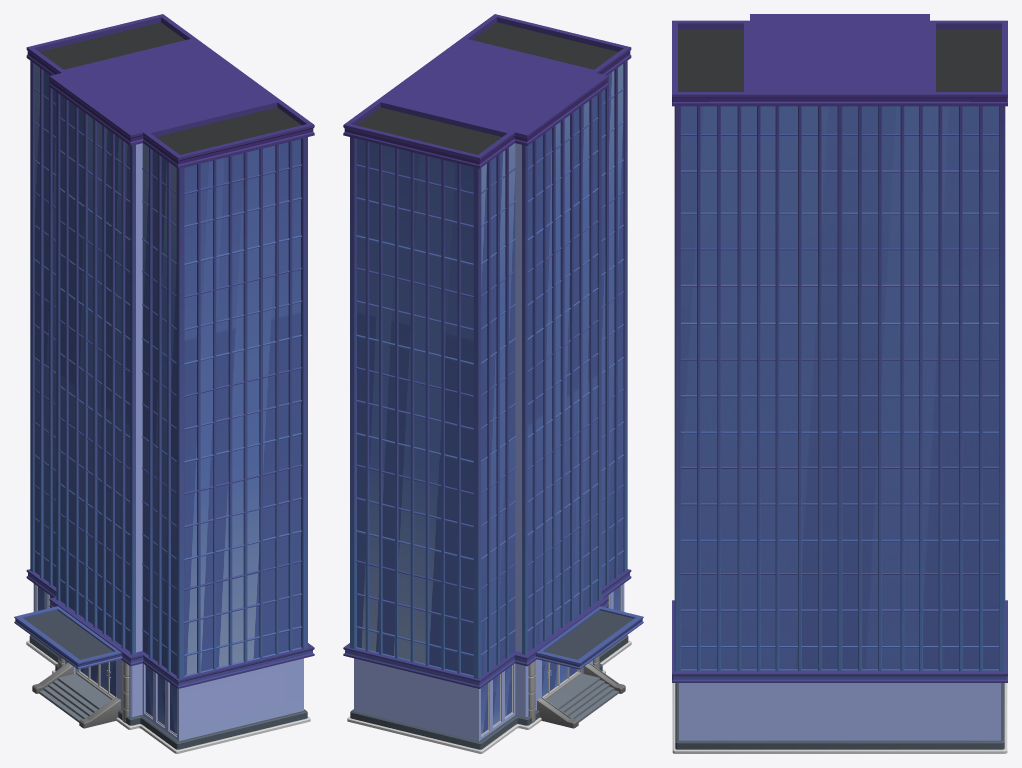
Rendered from Building_17_3_C.fbx.
The picture shows the model from 3 angles, left to right: view 1: azimuth 30°, elevation 25°; view 2: azimuth 150°, elevation 25°; view 3: azimuth 270°, elevation 25°; orthographic projection. The views are drawn at different scales.
Parts seen in each view (by area): view 1: Building_17_3_C; view 2: Building_17_3_C; view 3: Building_17_3_C.
Part boxes in pixels (x1,y1,x2,y2): Building_17_3_C: (14, 14, 314, 753); Building_17_3_C: (343, 14, 643, 753); Building_17_3_C: (672, 14, 1007, 753).
Bounding box in the file's own units: 857 × 2536 × 1168.
